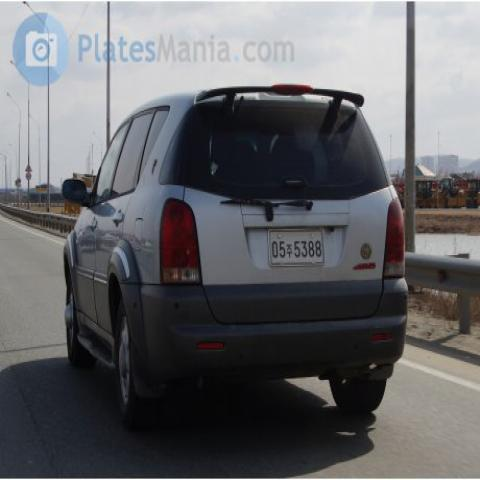LP: (260, 223, 331, 276)
